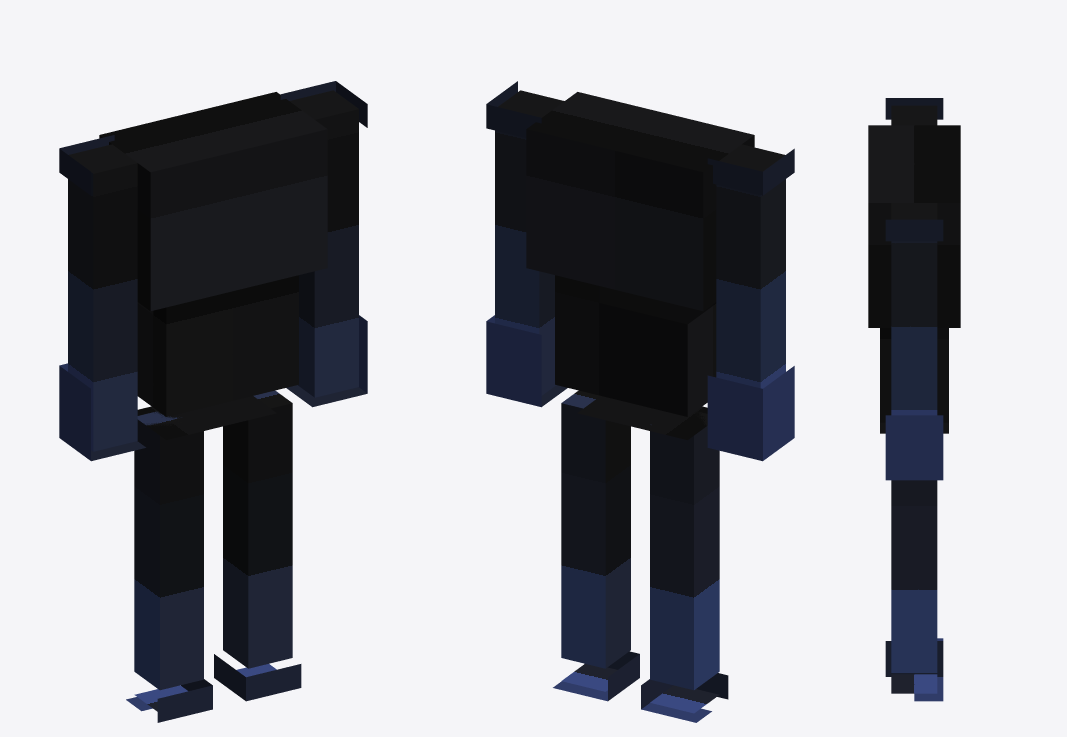
The model's file is sl_ender_entity_body.glb.
3 views of the same model, side by side, from view 1: azimuth 30°, elevation 25°; view 2: azimuth 150°, elevation 25°; view 3: azimuth 270°, elevation 25° (orthographic). The views are drawn at different scales.
Parts seen in each view (by area): view 1: bb_ender_entity_body; view 2: bb_ender_entity_body; view 3: bb_ender_entity_body.
Part boxes in pixels (x1,y1,x2,y2): bb_ender_entity_body: [59, 81, 367, 722]; bb_ender_entity_body: [486, 81, 794, 722]; bb_ender_entity_body: [868, 98, 960, 701].
Size of the model in its own units: 1.12 by 1.7 by 0.5.
1 material, 1 textured.
